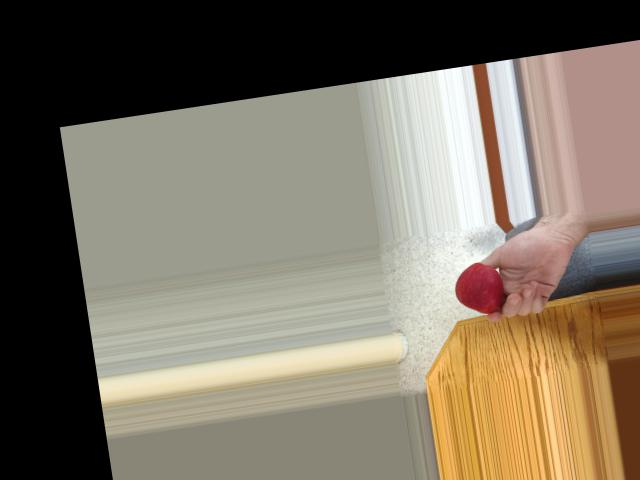apple: (451, 259, 505, 315)
